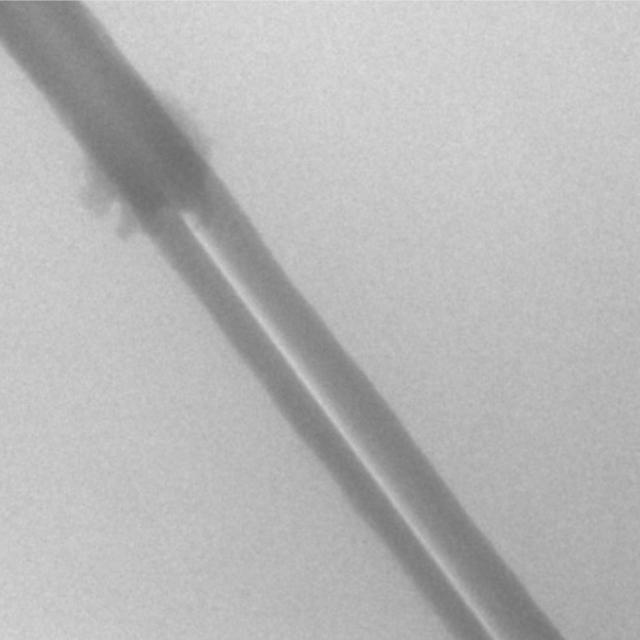broken arc: (180, 208, 496, 636)
